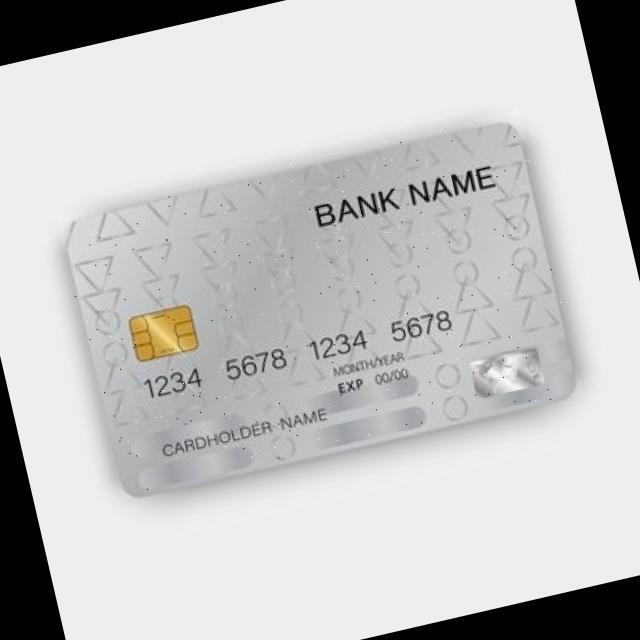payment_card: (64, 117, 575, 497)
